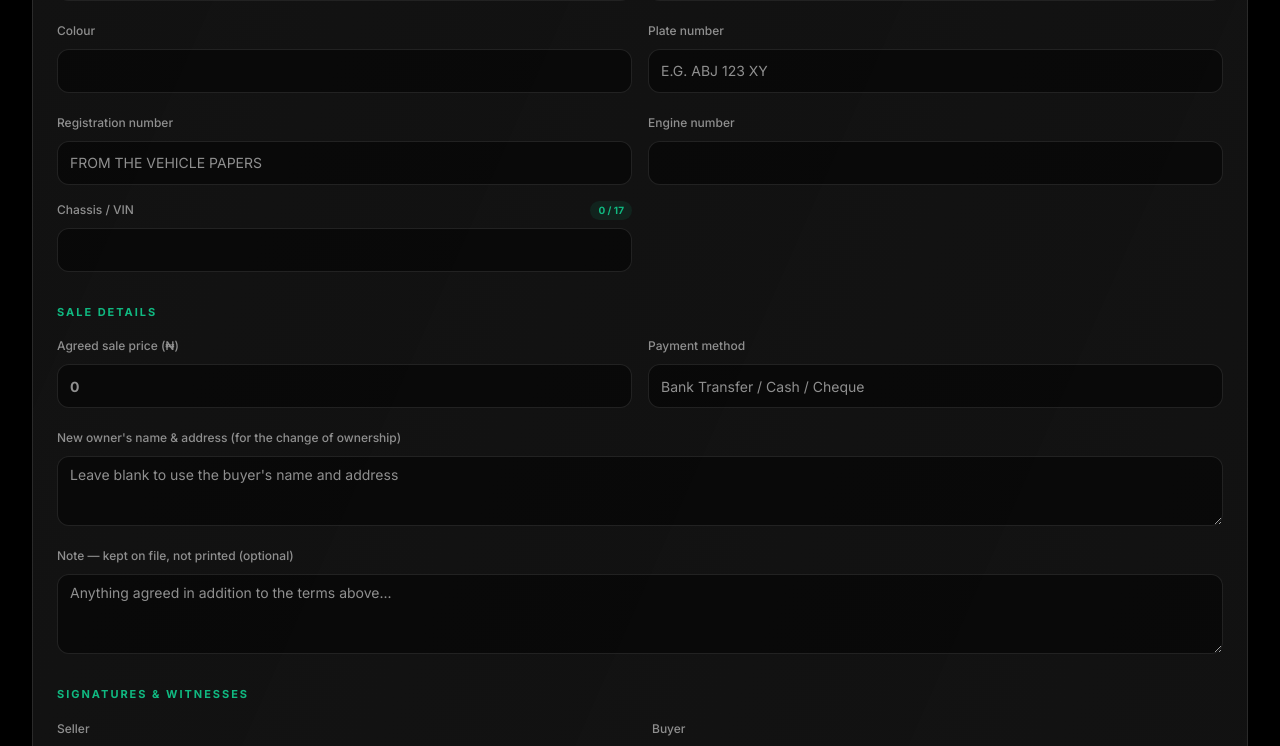
Test: Sales Agreement › spells the sale price out in words as it is typed
(page scrolled)
Type "5000000" into the field with placeholder "0" at (344, 386), box [57,364,632,408]
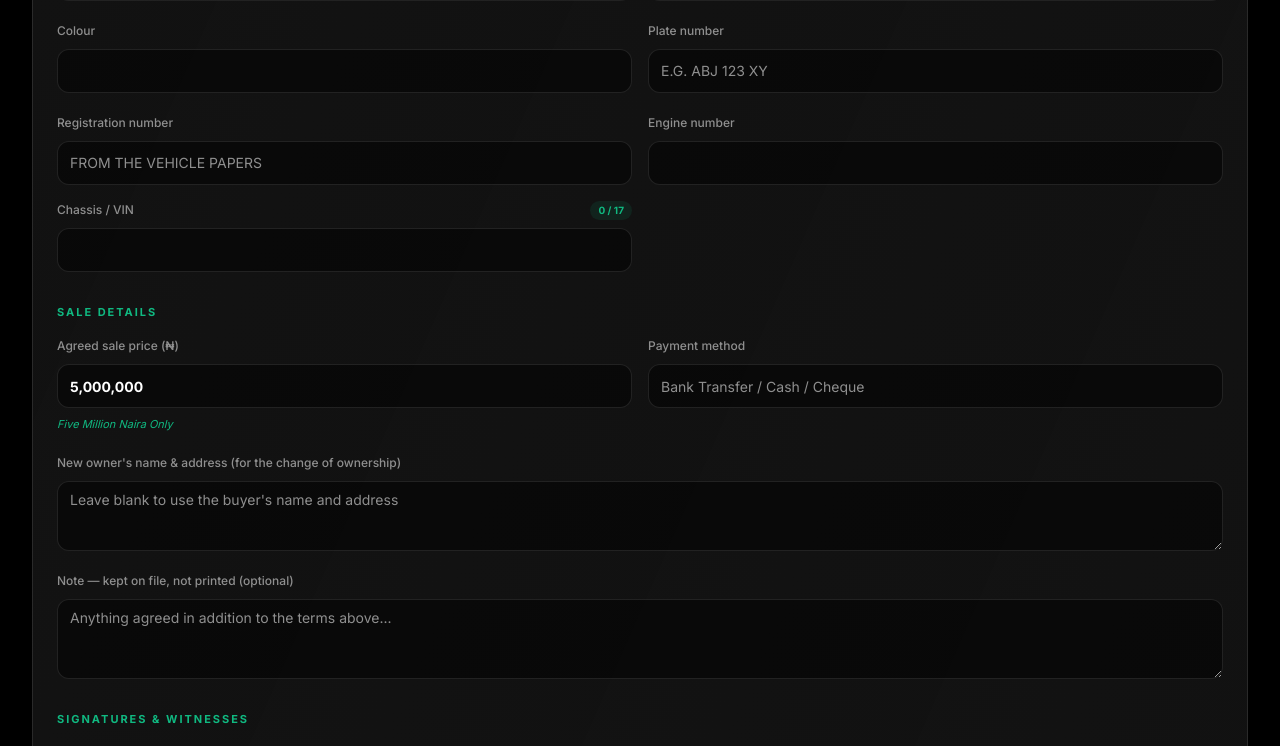
Result: the field with placeholder "0" below "Agreed sale price (₦)" holds "5,000,000" at [57,364,632,408]
Result: the text "Five Million Naira Only" is shown at [57,417,173,431]
